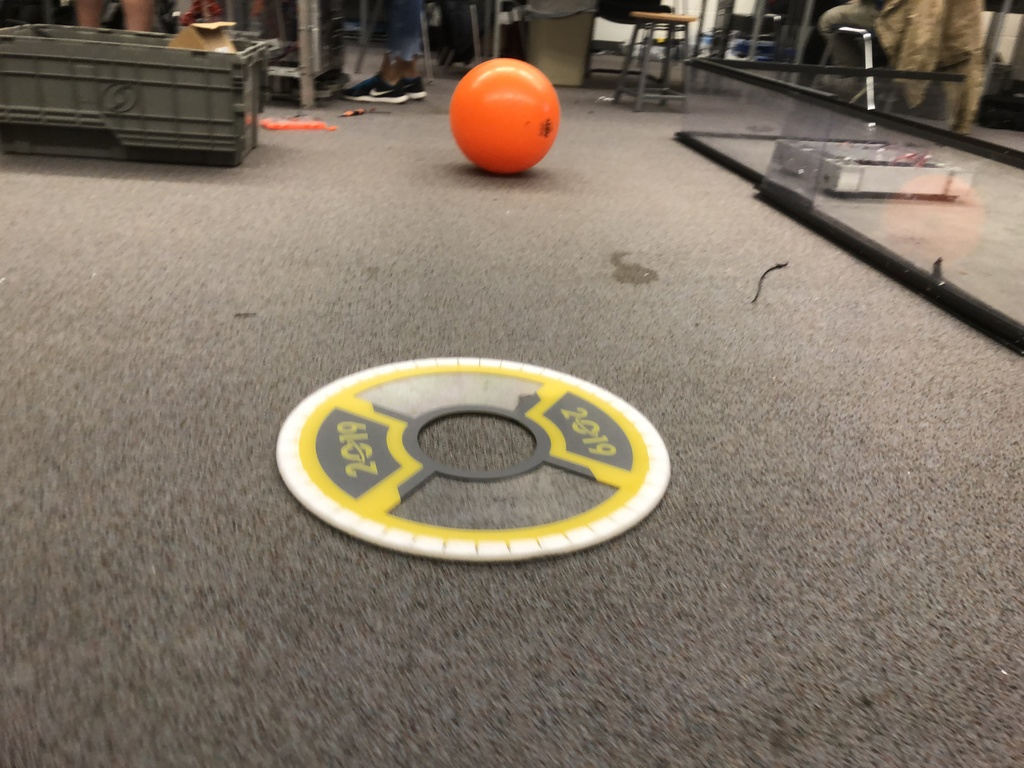hatch_panel: (252, 346, 697, 568)
